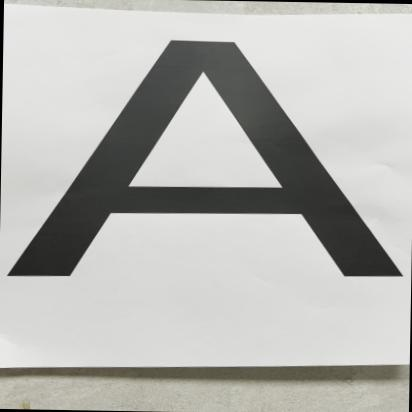seat: (6, 19, 412, 297)
